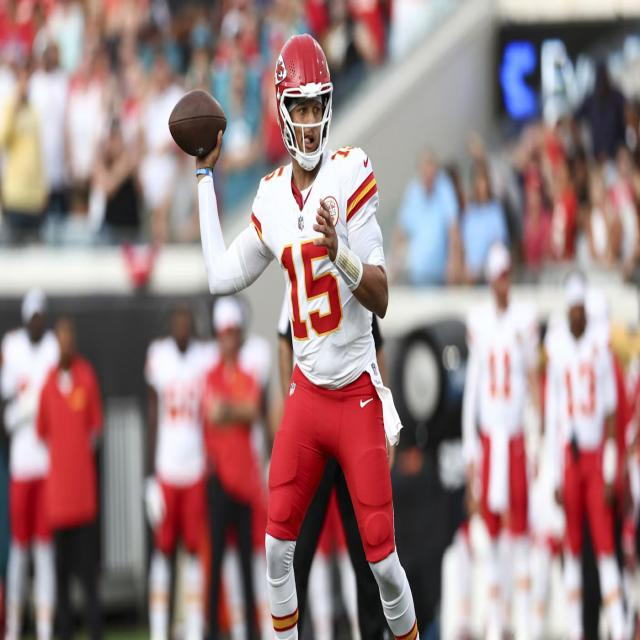Ball: (168, 86, 229, 162)
